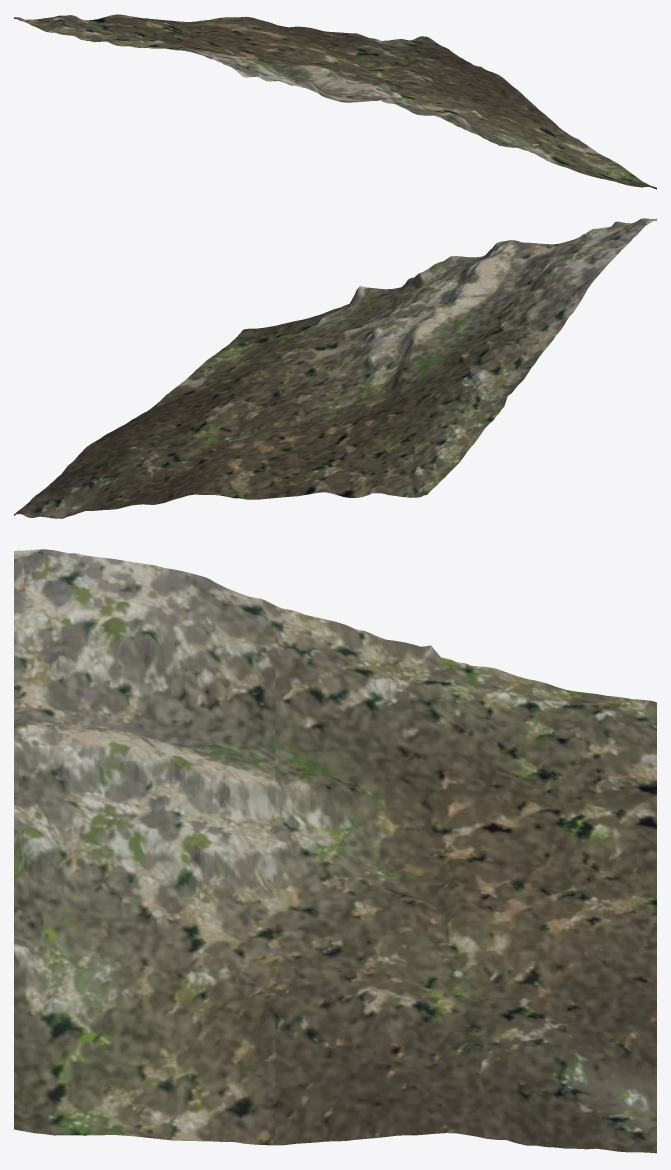
3 renders of one model, top to bottom at view 1: azimuth 30°, elevation 25°; view 2: azimuth 150°, elevation 25°; view 3: azimuth 270°, elevation 25°, orthographic. The views are drawn at different scales.
Size of the model in its own units: 250 by 134 by 241.
Materials: 1 (1 with a texture image).
